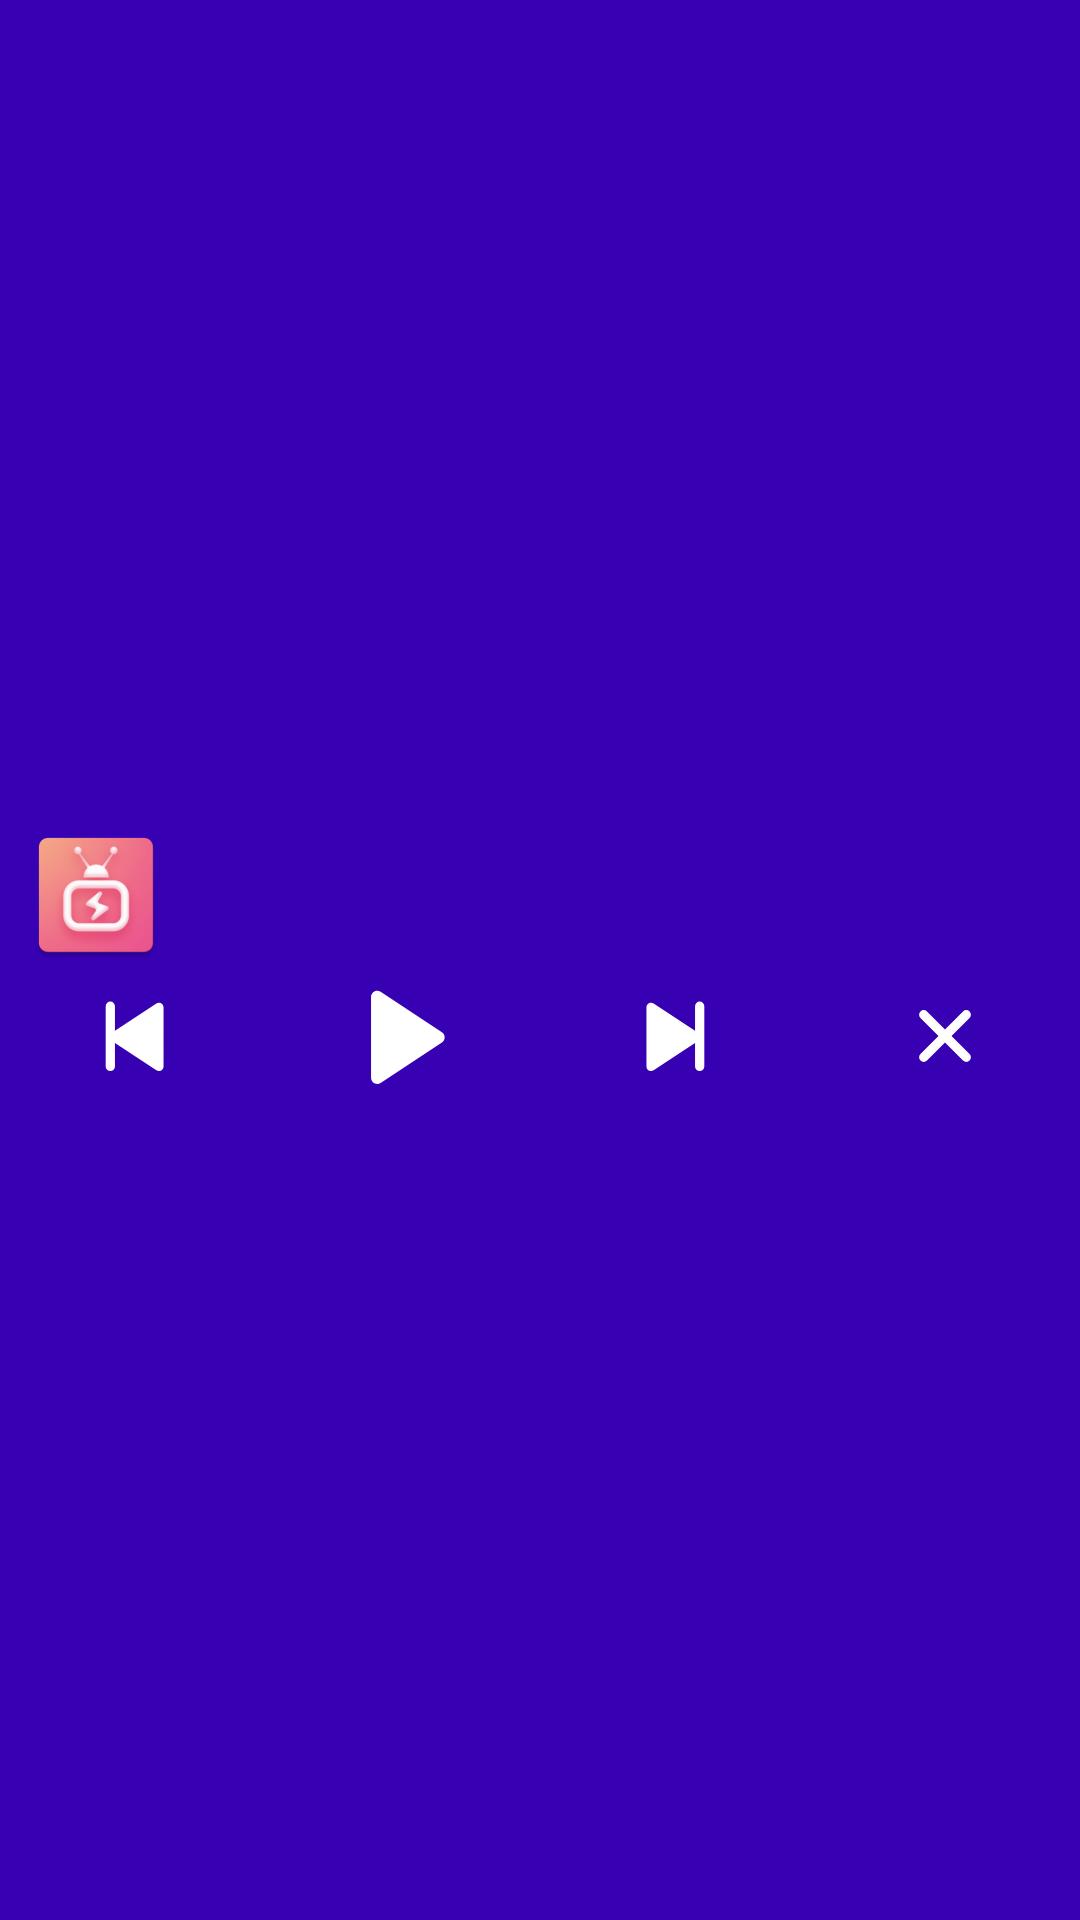

Where icons sit on this 1080x1920 app screen, as (x1, y1, x2, y2):
cross: (919, 1010, 971, 1062)
play arrow: (371, 990, 445, 1084)
skip next: (646, 1001, 705, 1071)
skip previous: (105, 1001, 164, 1071)
